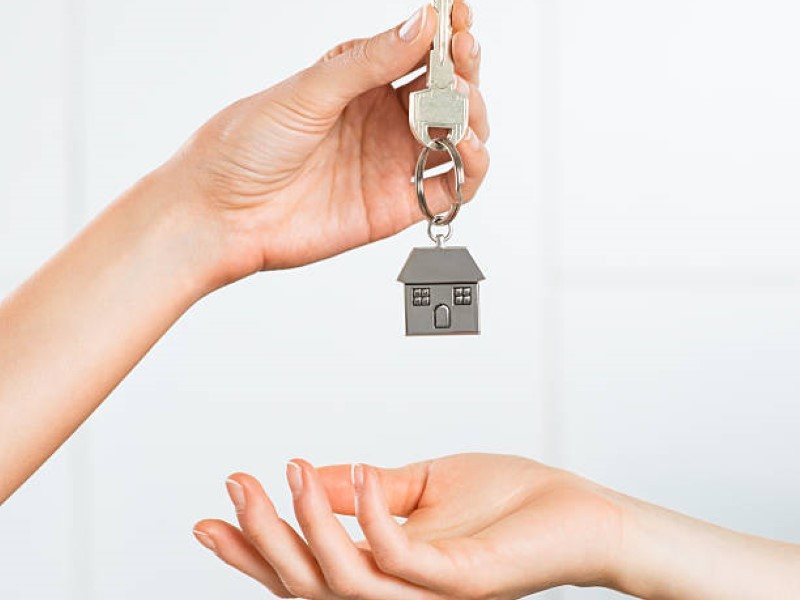key: (407, 2, 474, 152)
